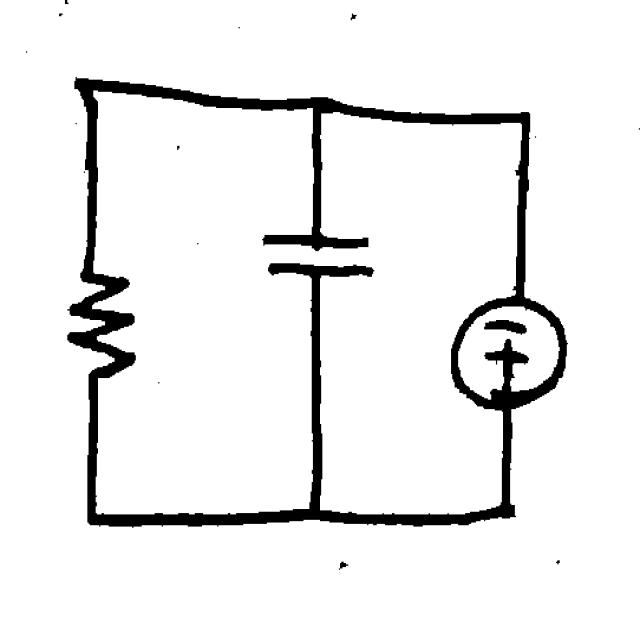capacitor: (249, 199, 389, 305)
dc: (441, 286, 576, 420)
resistor: (61, 234, 151, 399)
